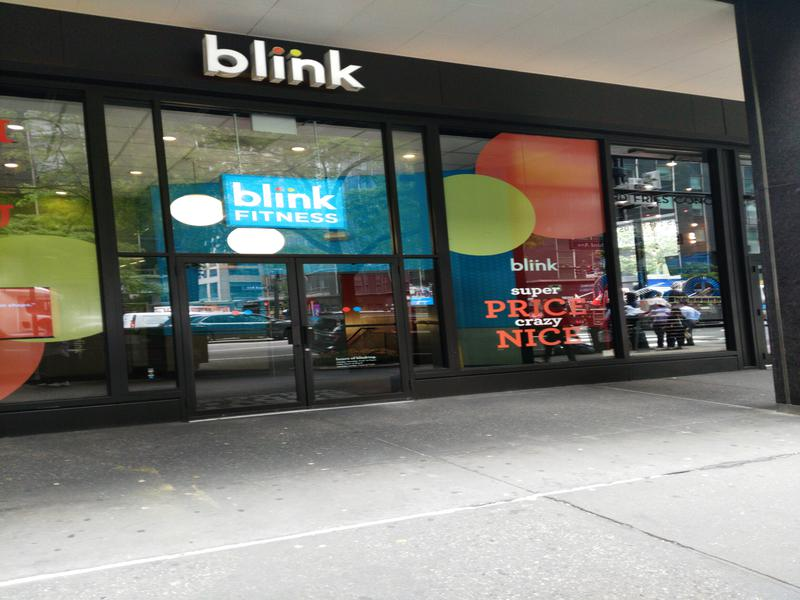double_door: (177, 250, 417, 412)
